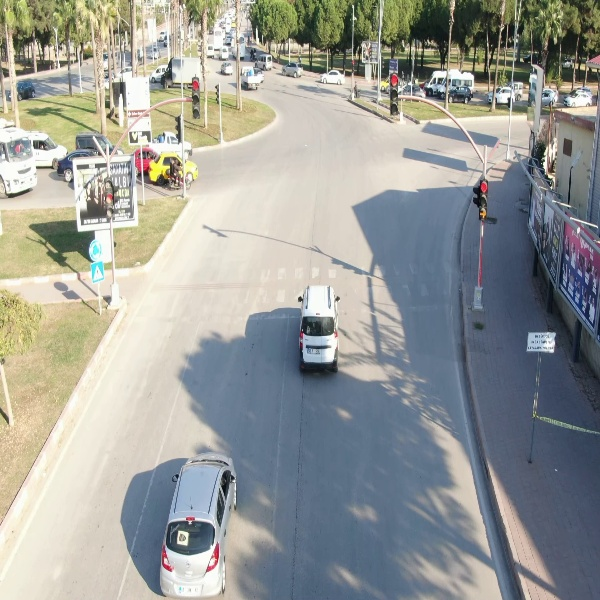car: (156, 444, 243, 599), (296, 281, 345, 380), (445, 83, 474, 106), (564, 88, 595, 109), (279, 60, 306, 80), (319, 69, 349, 87), (253, 51, 276, 71), (217, 59, 234, 75)
